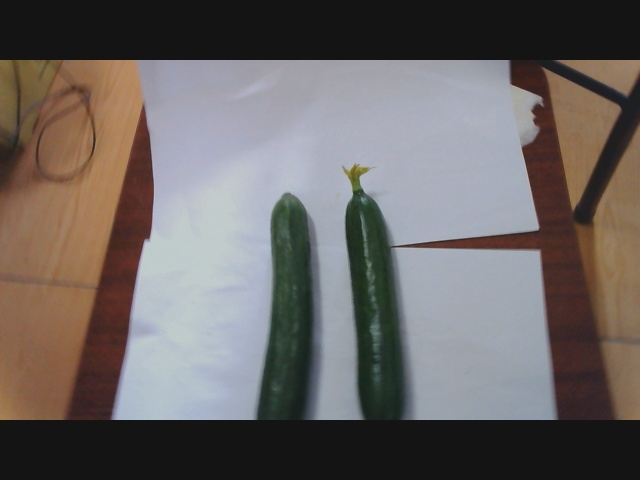cucumber: (343, 157, 416, 420), (244, 194, 316, 422)
